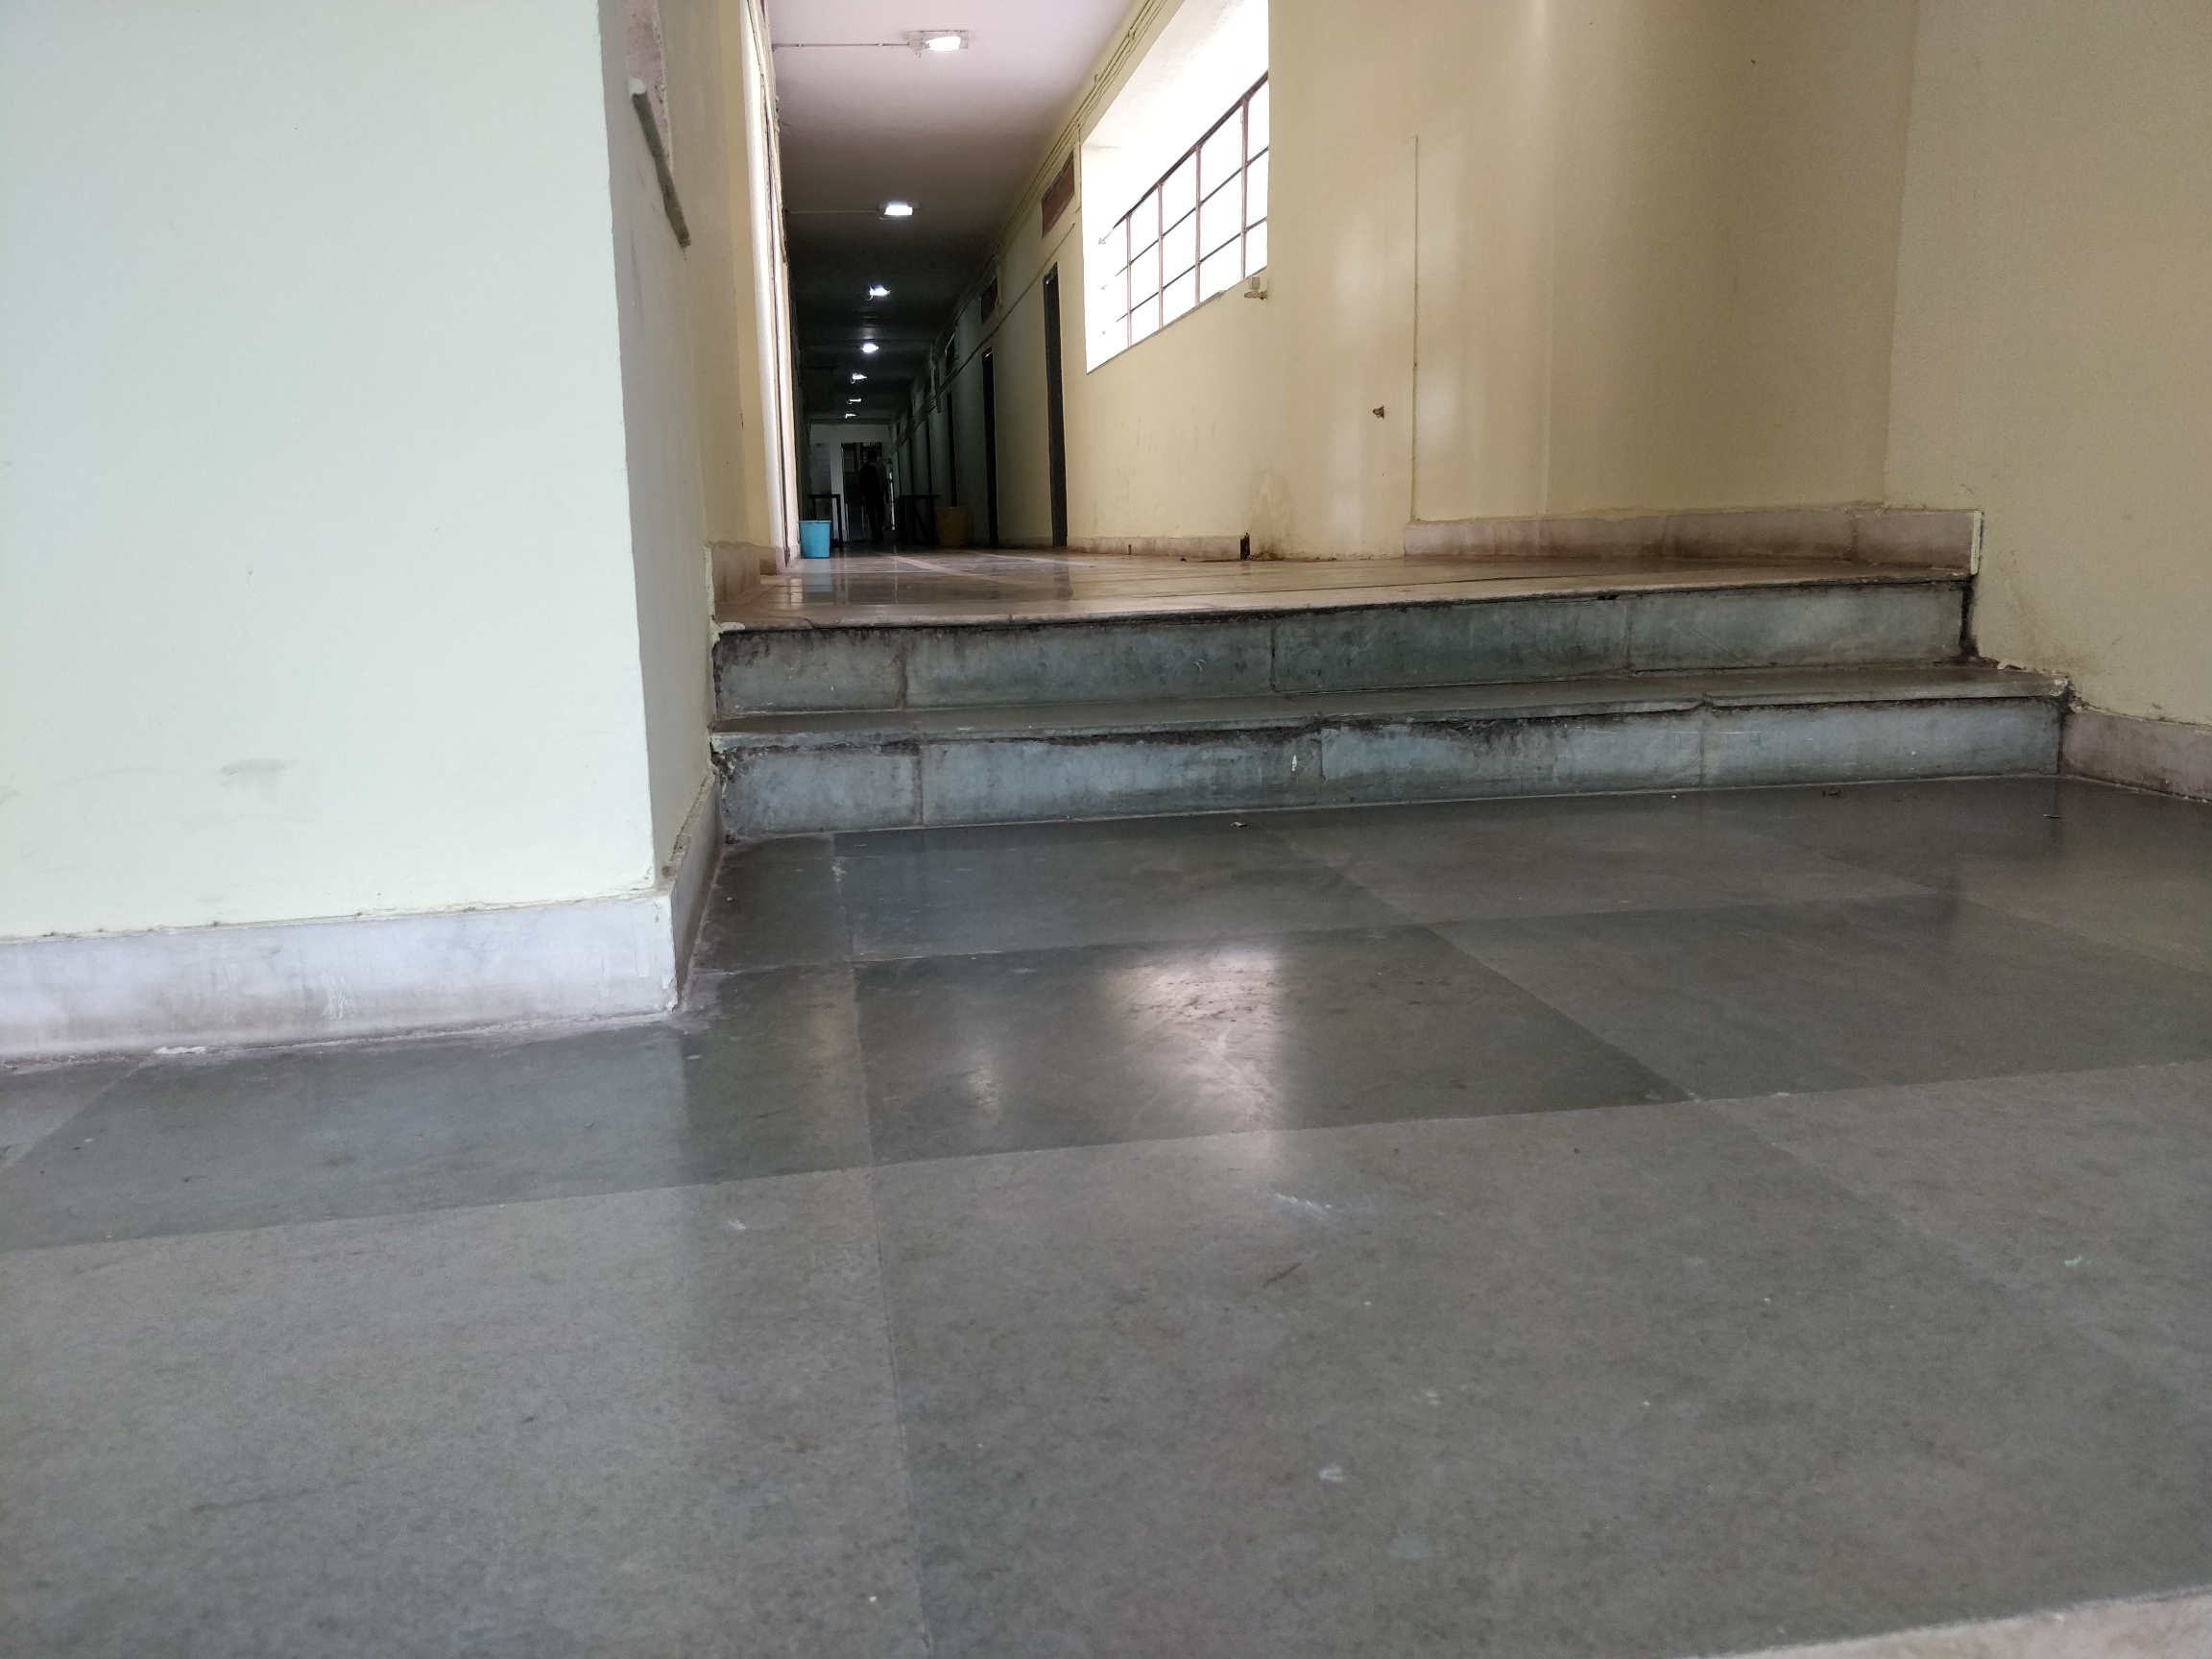stairs_up: (716, 565, 2071, 814)
